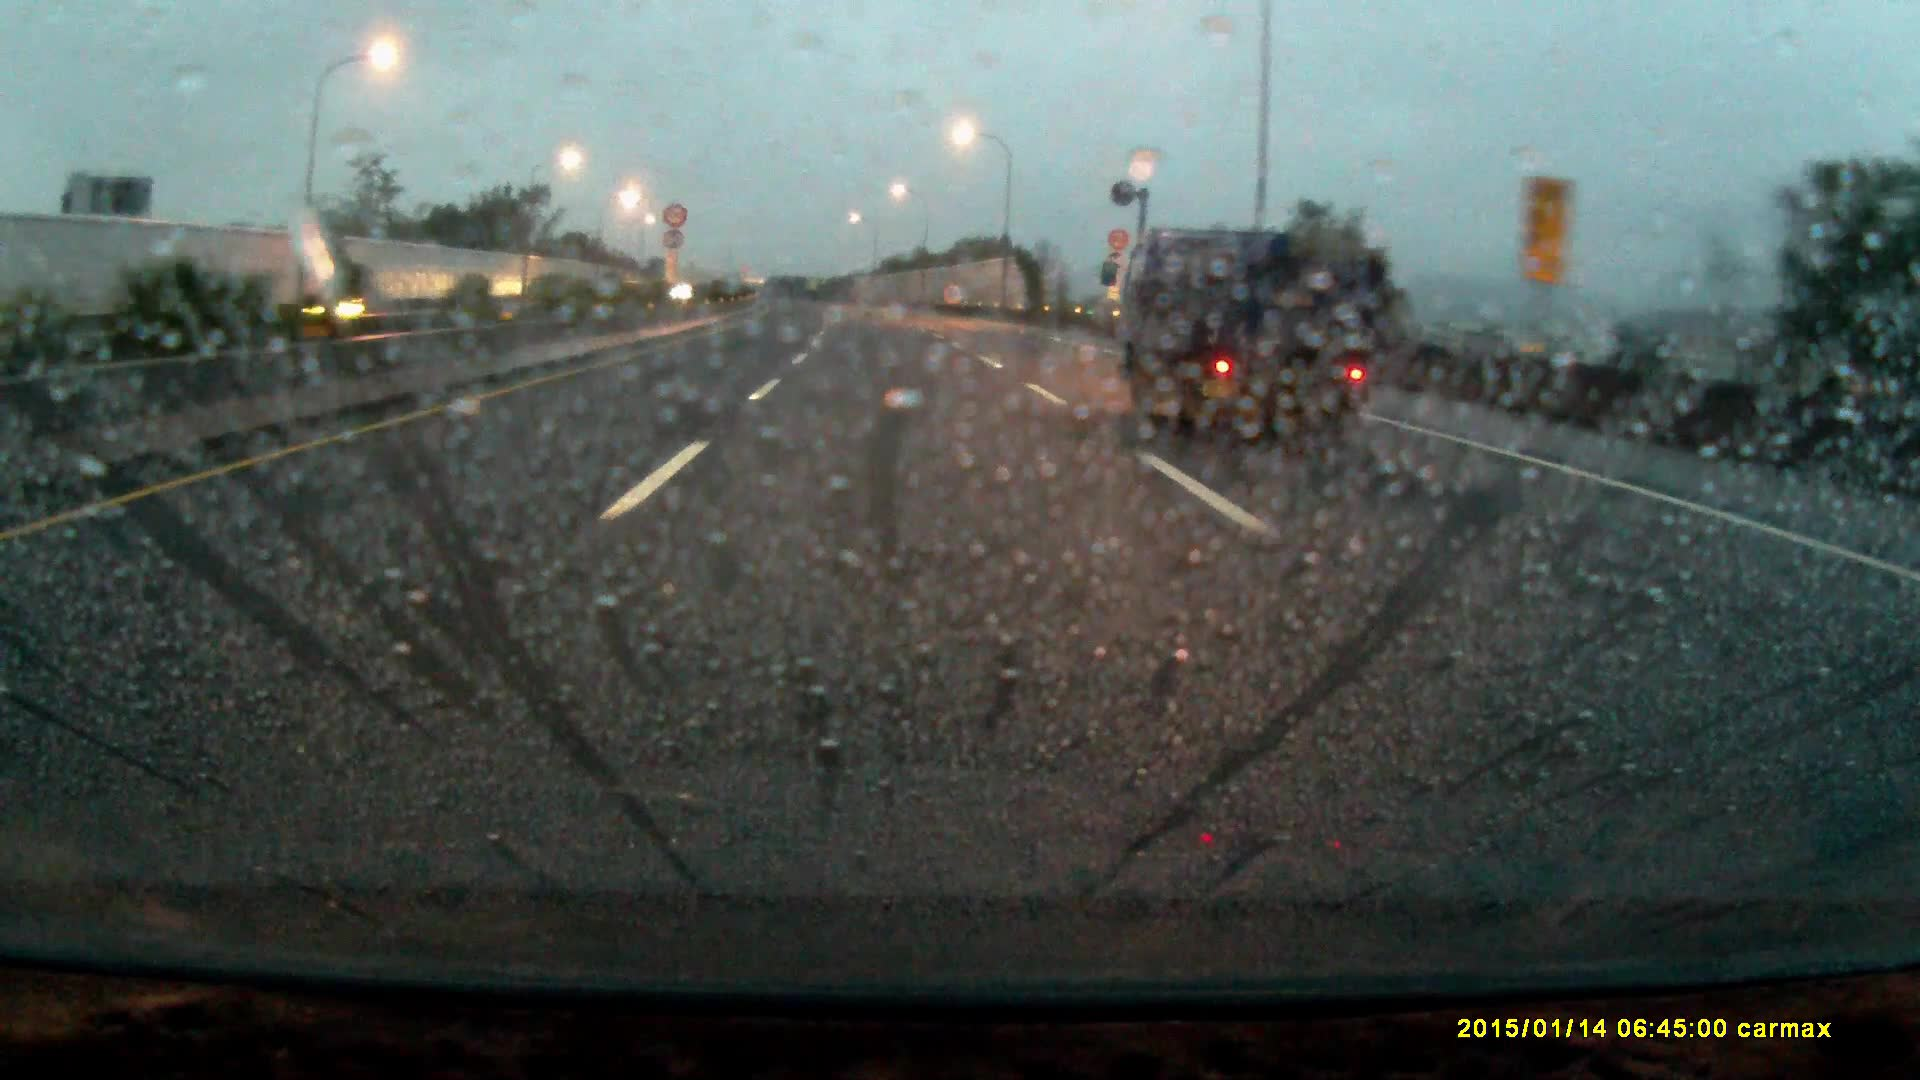vehicle: (1125, 231, 1379, 473), (290, 290, 388, 332)
